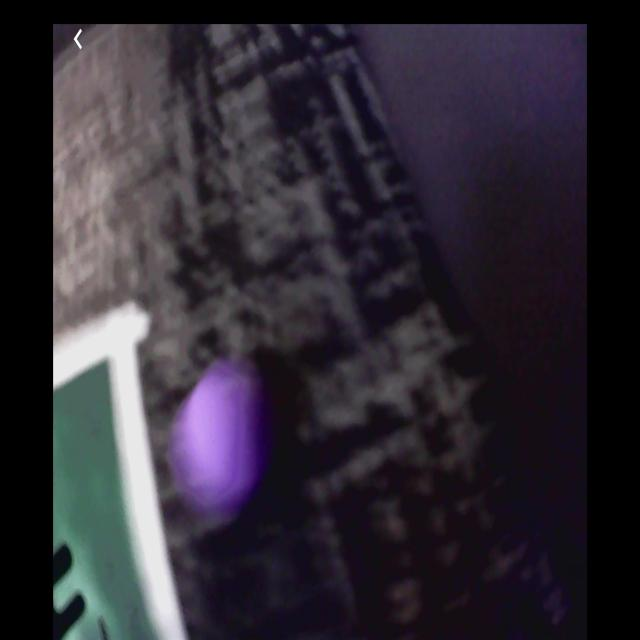ball: (178, 367, 262, 506)
